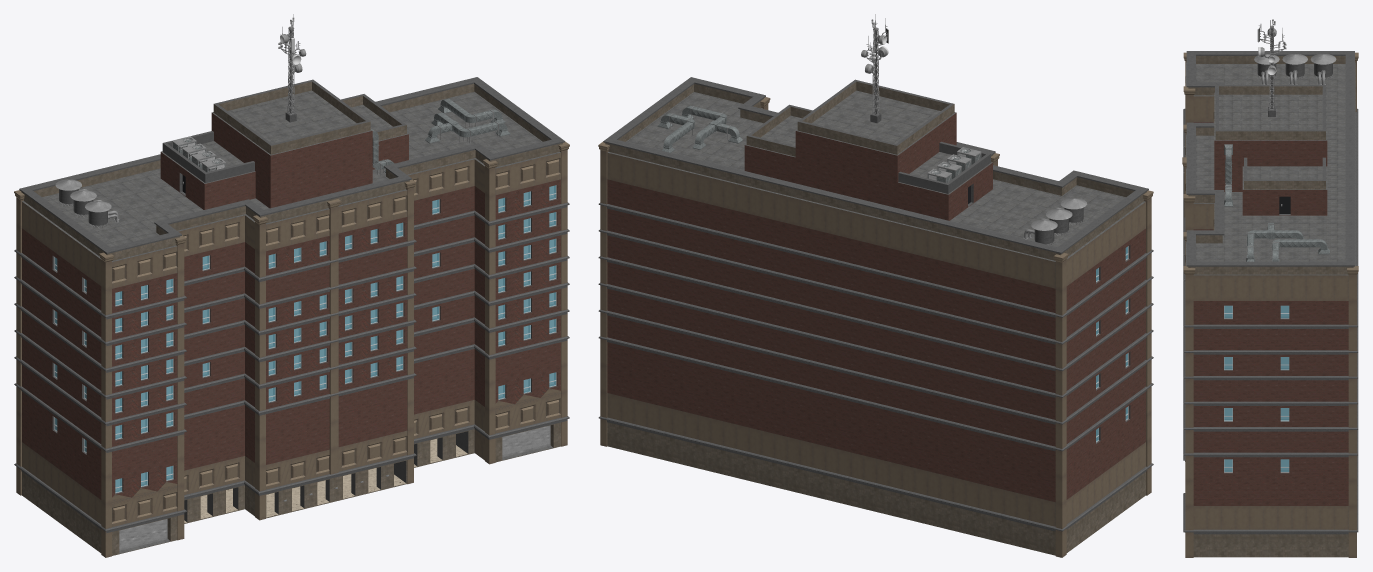
The model's file is Building_Big_DownTown2.obj.
3 renders of one model, left to right at view 1: azimuth 30°, elevation 25°; view 2: azimuth 150°, elevation 25°; view 3: azimuth 270°, elevation 25°, orthographic. The views are drawn at different scales.
Parts seen in each view (by area): view 1: Building_Big_DownTown2_Building_Big_DownTown2_Mesh_BrownBrick, Building_Big_DownTown2_Building_Big_DownTown2_Mesh_StoneSlab, Building_Big_DownTown2_Building_Big_DownTown2_Mesh_CementSmooth, Building_Big_DownTown2_Building_Big_DownTown2_Mesh_StoneBrick, Building_Big_DownTown2_Building_Big_DownTown2_Mesh_CementPanel, Building_Big_DownTown2_Building_Big_DownTown2_Mesh_Glass, Building_Big_DownTown2_Building_Big_DownTown2_Mesh_EpoxyBlock, Building_Big_DownTown2_Building_Big_DownTown2_Mesh_MetalSmooth, Building_Big_DownTown2_Building_Big_DownTown2_Mesh_MetalGavanize, Building_Big_DownTown2_Building_Big_DownTown2_Mesh_MarbleWhite, Building_Big_DownTown2_Building_Big_DownTown2_Mesh_MetalPanels; view 2: Building_Big_DownTown2_Building_Big_DownTown2_Mesh_BrownBrick, Building_Big_DownTown2_Building_Big_DownTown2_Mesh_StoneSlab, Building_Big_DownTown2_Building_Big_DownTown2_Mesh_CementSmooth, Building_Big_DownTown2_Building_Big_DownTown2_Mesh_StoneBrick, Building_Big_DownTown2_Building_Big_DownTown2_Mesh_CementPanel, Building_Big_DownTown2_Building_Big_DownTown2_Mesh_MetalSmooth, Building_Big_DownTown2_Building_Big_DownTown2_Mesh_MetalGavanize, Building_Big_DownTown2_Building_Big_DownTown2_Mesh_MetalPanels; view 3: Building_Big_DownTown2_Building_Big_DownTown2_Mesh_BrownBrick, Building_Big_DownTown2_Building_Big_DownTown2_Mesh_CementPanel, Building_Big_DownTown2_Building_Big_DownTown2_Mesh_CementSmooth, Building_Big_DownTown2_Building_Big_DownTown2_Mesh_StoneSlab, Building_Big_DownTown2_Building_Big_DownTown2_Mesh_StoneBrick, Building_Big_DownTown2_Building_Big_DownTown2_Mesh_MetalGavanize, Building_Big_DownTown2_Building_Big_DownTown2_Mesh_MetalSmooth, Building_Big_DownTown2_Building_Big_DownTown2_Mesh_EpoxyBlock, Building_Big_DownTown2_Building_Big_DownTown2_Mesh_Glass, Building_Big_DownTown2_Building_Big_DownTown2_Mesh_MetalPanels.
Part boxes in pixels (left/top/right/bottom): Building_Big_DownTown2_Building_Big_DownTown2_Mesh_BrownBrick: left=22, top=113, right=560, bottom=499; Building_Big_DownTown2_Building_Big_DownTown2_Mesh_StoneSlab: left=14, top=141, right=569, bottom=557; Building_Big_DownTown2_Building_Big_DownTown2_Mesh_CementSmooth: left=14, top=77, right=569, bottom=533; Building_Big_DownTown2_Building_Big_DownTown2_Mesh_StoneBrick: left=21, top=81, right=562, bottom=555; Building_Big_DownTown2_Building_Big_DownTown2_Mesh_CementPanel: left=22, top=90, right=560, bottom=553; Building_Big_DownTown2_Building_Big_DownTown2_Mesh_Glass: left=54, top=185, right=555, bottom=492; Building_Big_DownTown2_Building_Big_DownTown2_Mesh_EpoxyBlock: left=54, top=19, right=556, bottom=493; Building_Big_DownTown2_Building_Big_DownTown2_Mesh_MetalSmooth: left=55, top=14, right=550, bottom=550; Building_Big_DownTown2_Building_Big_DownTown2_Mesh_MetalGavanize: left=173, top=98, right=510, bottom=172; Building_Big_DownTown2_Building_Big_DownTown2_Mesh_MarbleWhite: left=184, top=439, right=467, bottom=522; Building_Big_DownTown2_Building_Big_DownTown2_Mesh_MetalPanels: left=59, top=30, right=292, bottom=225; Building_Big_DownTown2_Building_Big_DownTown2_Mesh_BrownBrick: left=607, top=113, right=1145, bottom=502; Building_Big_DownTown2_Building_Big_DownTown2_Mesh_StoneSlab: left=598, top=97, right=1153, bottom=557; Building_Big_DownTown2_Building_Big_DownTown2_Mesh_CementSmooth: left=598, top=77, right=1153, bottom=531; Building_Big_DownTown2_Building_Big_DownTown2_Mesh_StoneBrick: left=605, top=81, right=1146, bottom=555; Building_Big_DownTown2_Building_Big_DownTown2_Mesh_CementPanel: left=608, top=90, right=1145, bottom=261; Building_Big_DownTown2_Building_Big_DownTown2_Mesh_MetalSmooth: left=669, top=14, right=1087, bottom=244; Building_Big_DownTown2_Building_Big_DownTown2_Mesh_MetalGavanize: left=657, top=105, right=980, bottom=182; Building_Big_DownTown2_Building_Big_DownTown2_Mesh_MetalPanels: left=874, top=28, right=1083, bottom=244; Building_Big_DownTown2_Building_Big_DownTown2_Mesh_BrownBrick: left=1193, top=122, right=1348, bottom=505; Building_Big_DownTown2_Building_Big_DownTown2_Mesh_CementPanel: left=1186, top=62, right=1355, bottom=275; Building_Big_DownTown2_Building_Big_DownTown2_Mesh_CementSmooth: left=1183, top=51, right=1358, bottom=534; Building_Big_DownTown2_Building_Big_DownTown2_Mesh_StoneSlab: left=1182, top=52, right=1358, bottom=557; Building_Big_DownTown2_Building_Big_DownTown2_Mesh_StoneBrick: left=1188, top=56, right=1353, bottom=557; Building_Big_DownTown2_Building_Big_DownTown2_Mesh_MetalGavanize: left=1224, top=144, right=1329, bottom=261; Building_Big_DownTown2_Building_Big_DownTown2_Mesh_MetalSmooth: left=1185, top=19, right=1336, bottom=461; Building_Big_DownTown2_Building_Big_DownTown2_Mesh_EpoxyBlock: left=1224, top=21, right=1289, bottom=472; Building_Big_DownTown2_Building_Big_DownTown2_Mesh_Glass: left=1224, top=305, right=1289, bottom=471; Building_Big_DownTown2_Building_Big_DownTown2_Mesh_MetalPanels: left=1257, top=28, right=1332, bottom=108.
Size of the model in its own units: 54.59 by 51.06 by 18.7.
Materials: 13 (11 with a texture image).
